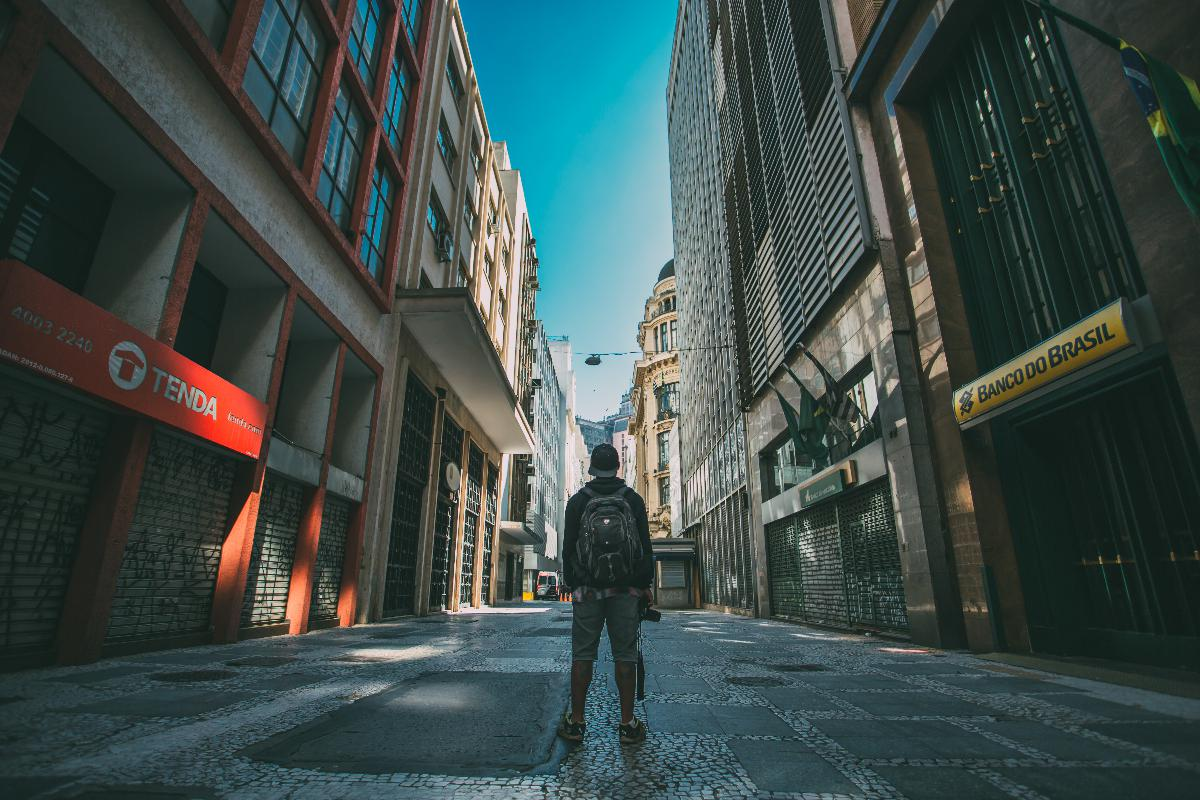Person: (545, 448, 670, 755)
